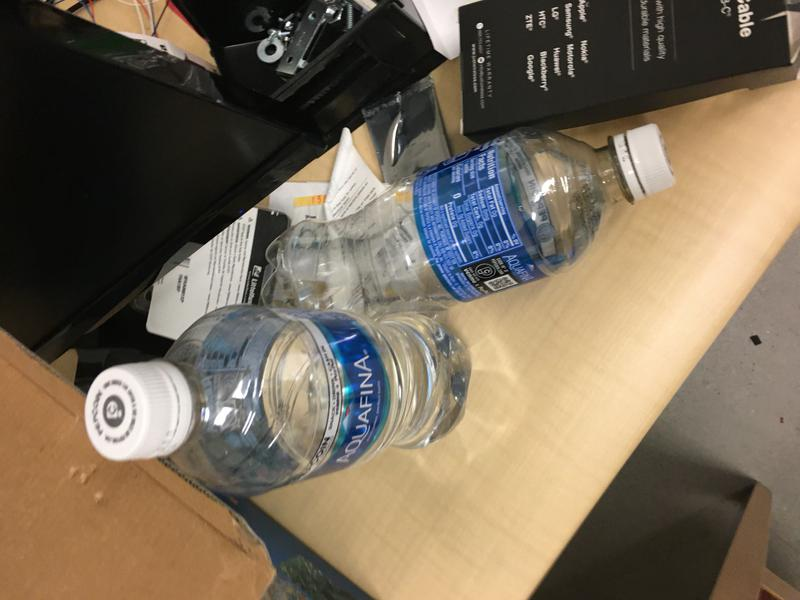bottle: (259, 122, 678, 321), (82, 303, 471, 499)
